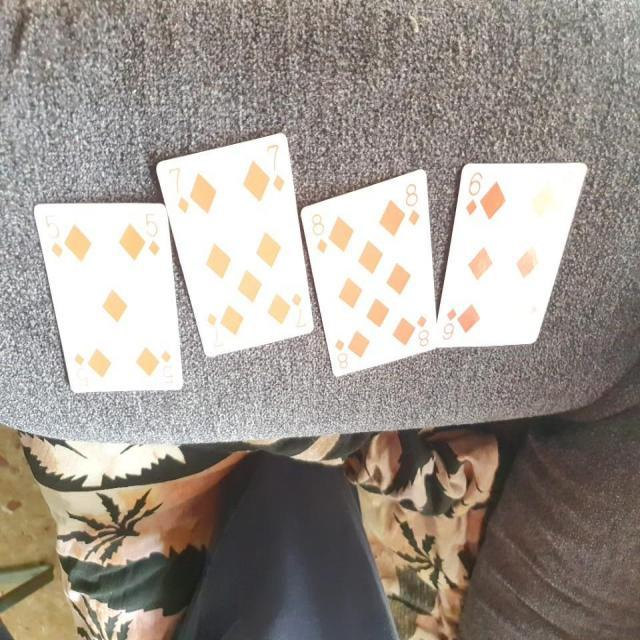5 of diamonds: (31, 200, 186, 398)
6 of diamonds: (436, 156, 589, 354)
7 of diamonds: (155, 129, 315, 358)
8 of diamonds: (300, 167, 440, 379)
